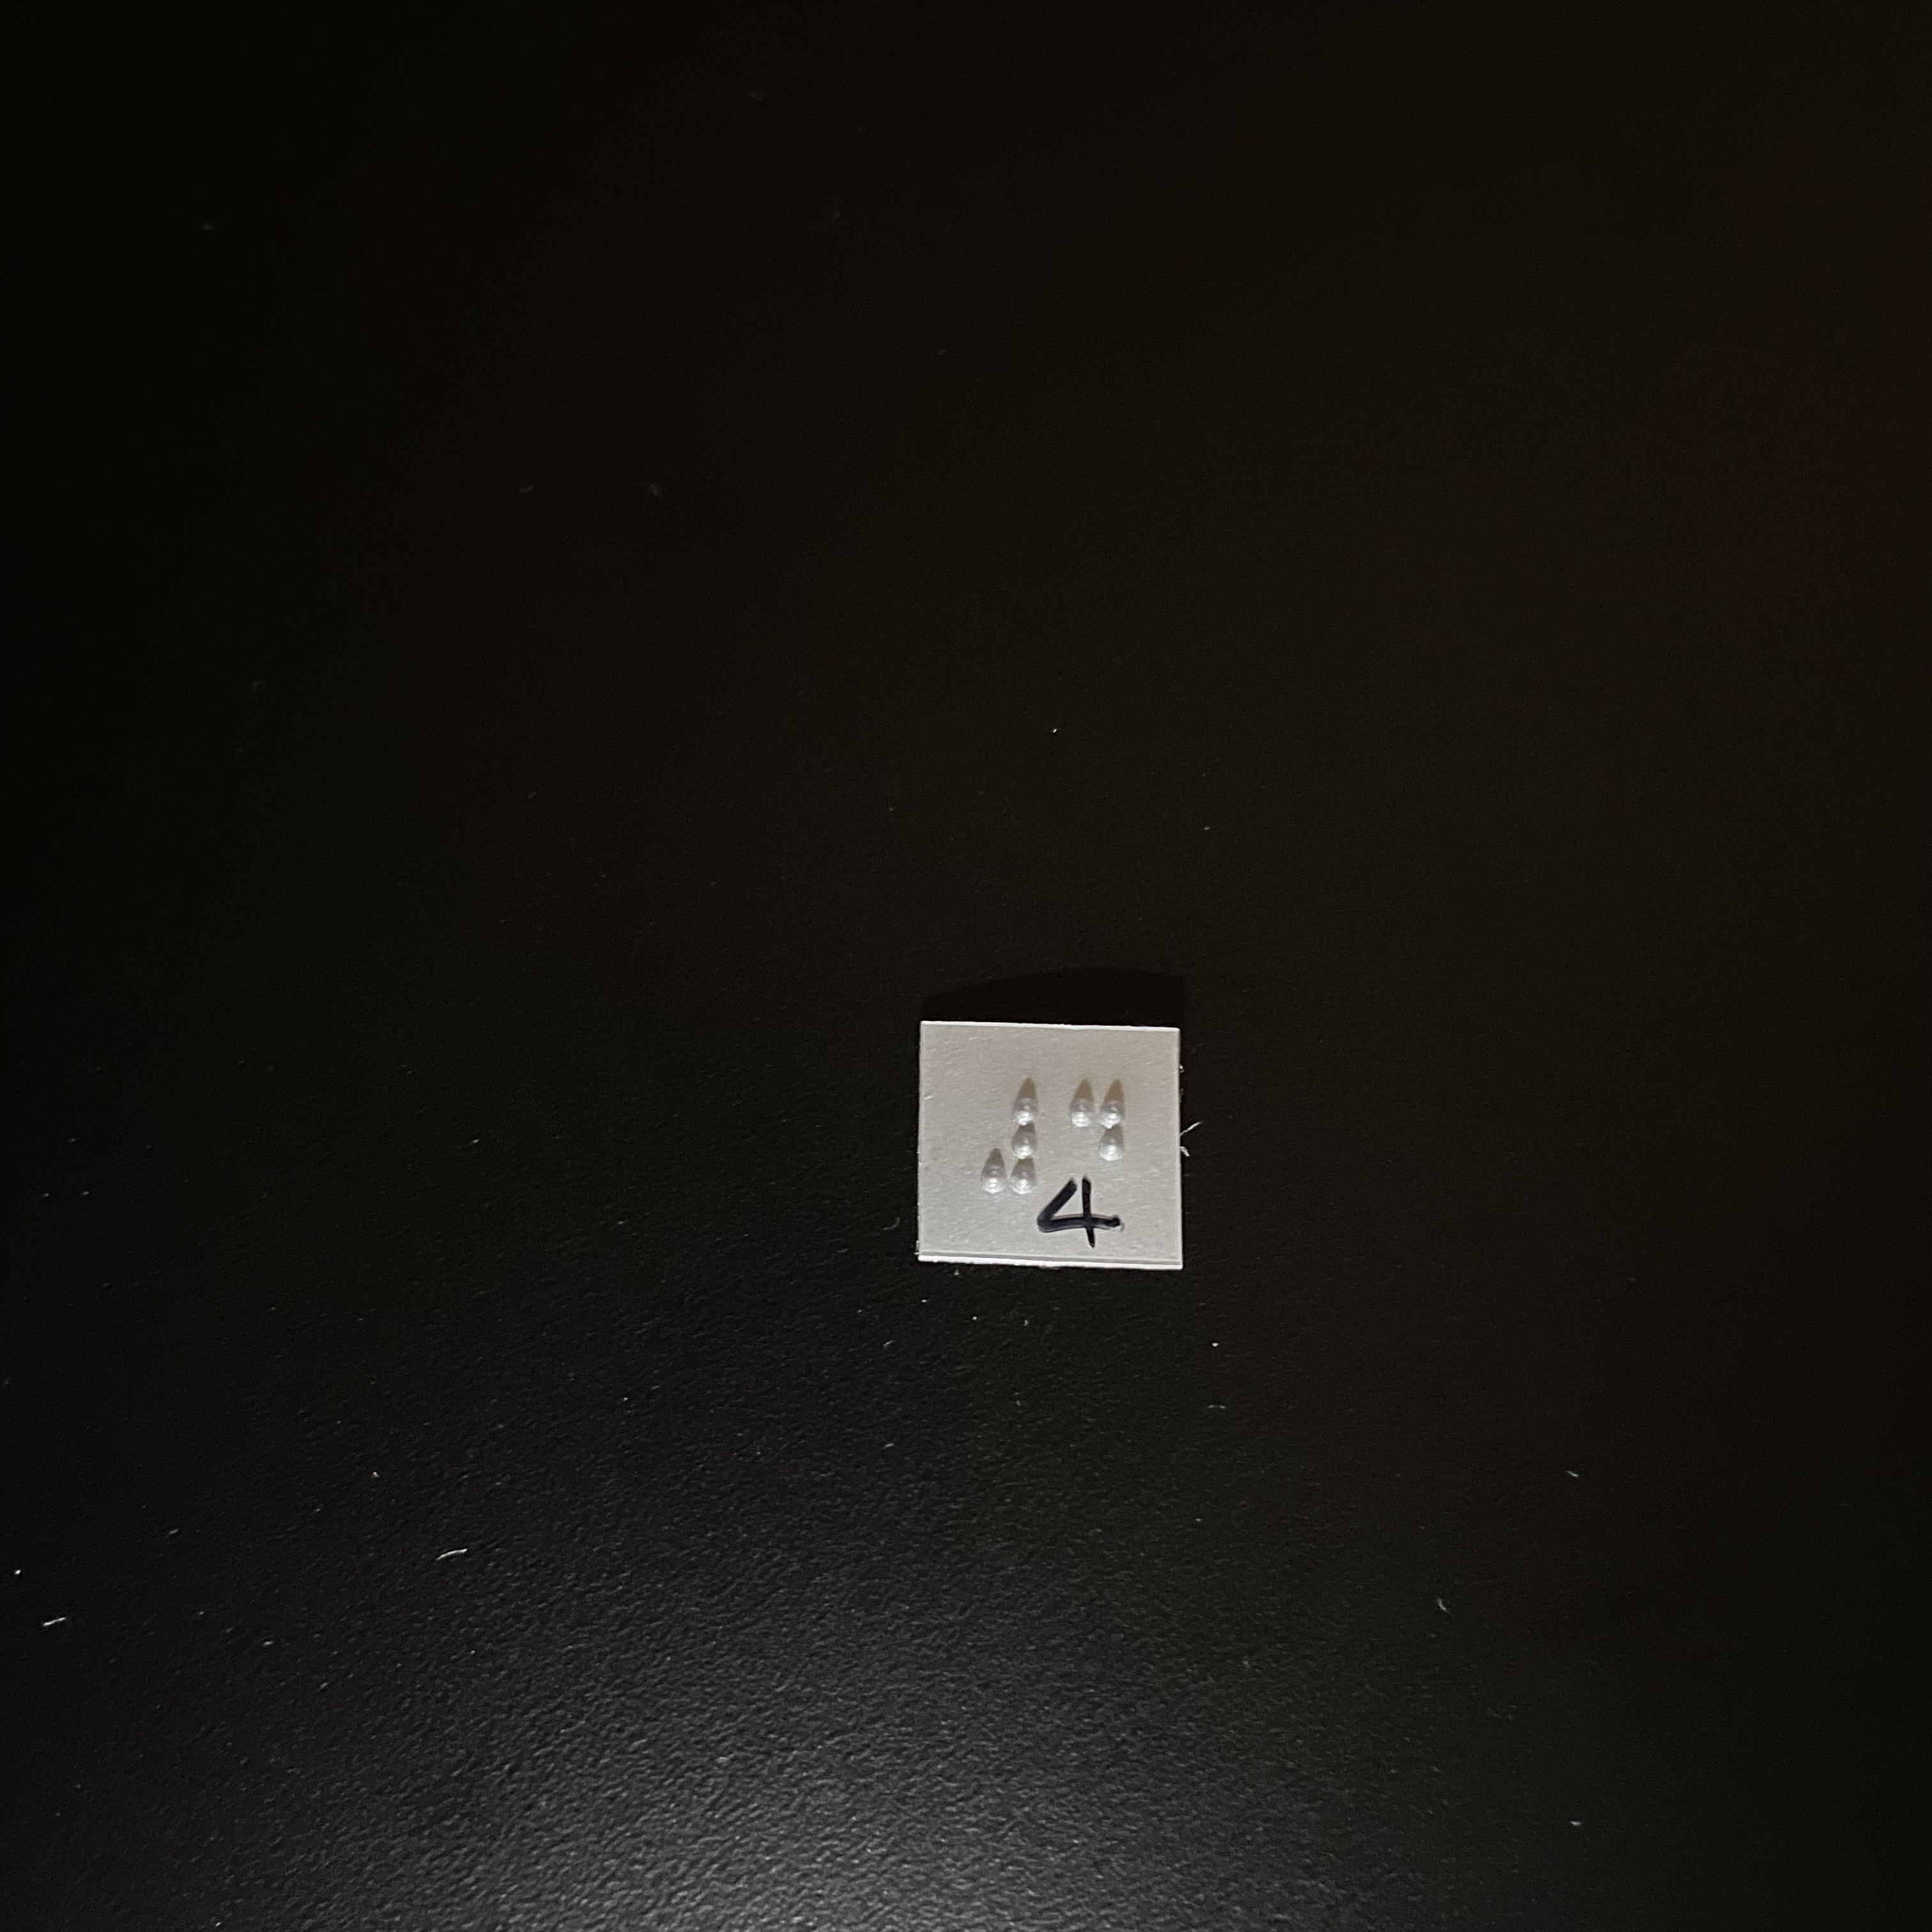#: (972, 1079, 1047, 1205)
d: (1064, 1077, 1131, 1211)
